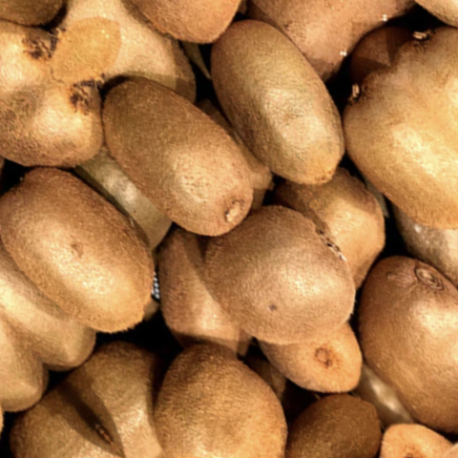kiwi: (177, 157, 403, 384), (173, 0, 397, 223), (68, 39, 287, 267), (0, 129, 192, 365), (104, 310, 328, 458), (313, 65, 458, 267)
